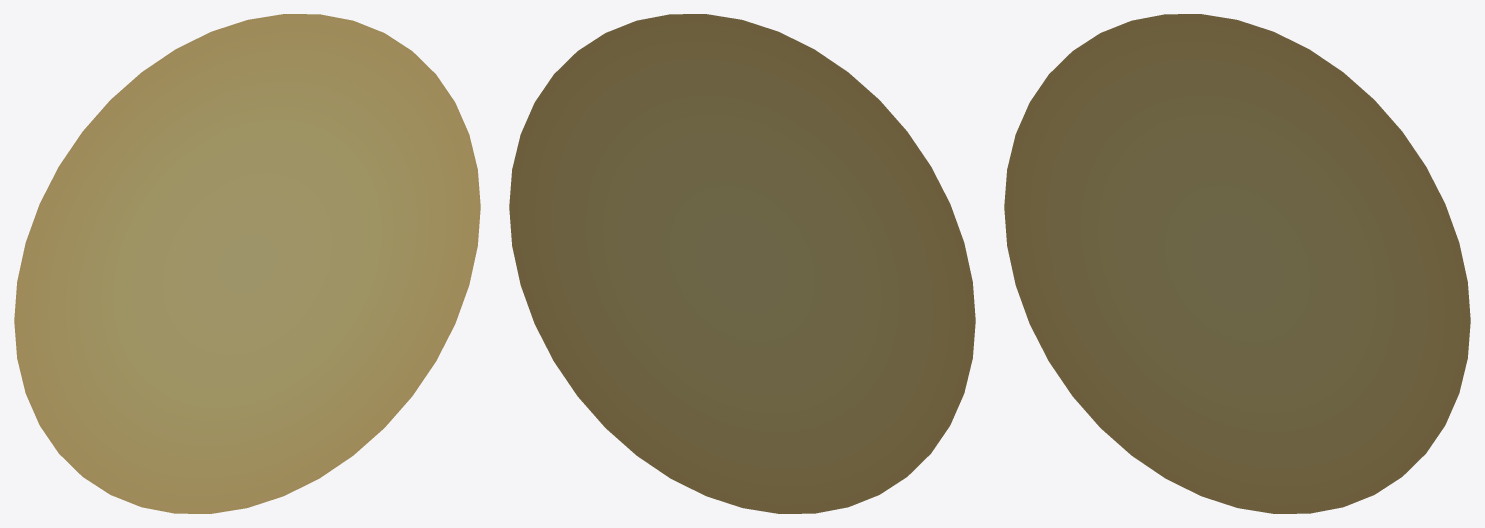
File: turtle-prop-sun-disc.glb
3 views of the same model, side by side, from view 1: azimuth 30°, elevation 25°; view 2: azimuth 150°, elevation 25°; view 3: azimuth 330°, elevation 25° (orthographic).
Visible parts, largest first — view 1: turtle-prop-sun-disc; view 2: turtle-prop-sun-disc; view 3: turtle-prop-sun-disc.
Part boxes in pixels (left/top/right/bottom): turtle-prop-sun-disc: left=14, top=14, right=480, bottom=513; turtle-prop-sun-disc: left=509, top=14, right=975, bottom=513; turtle-prop-sun-disc: left=1004, top=14, right=1470, bottom=513.
Size of the model in its own units: 0.1 by 0.1 by 0.
